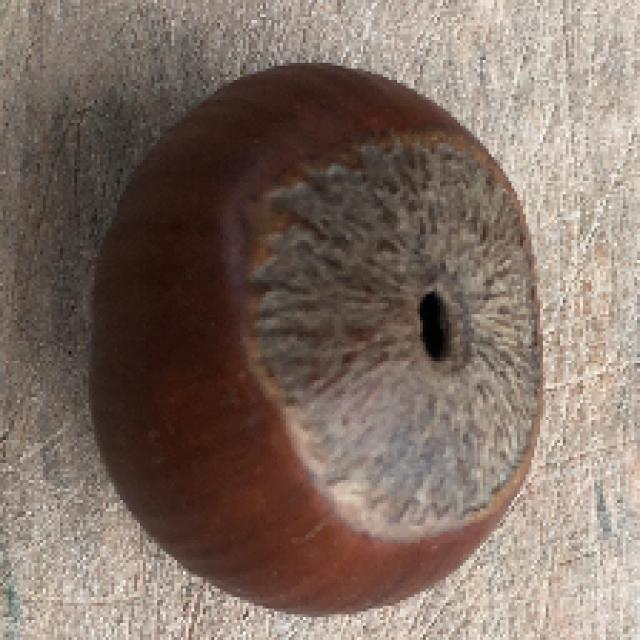damagedHazelnut: (80, 59, 548, 606)
